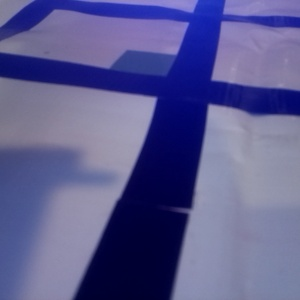bottom_left: (137, 59, 233, 95)
